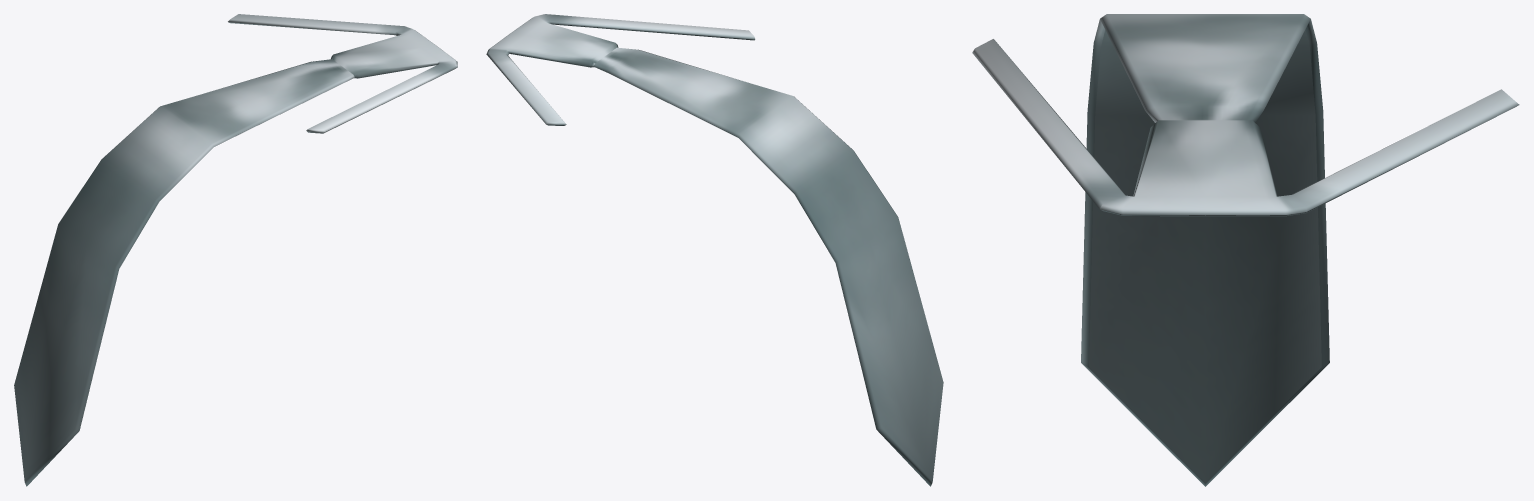
The model's file is TuShuGuan_01_lingdai_01.FBX.
The picture shows the model from 3 angles, left to right: view 1: azimuth 30°, elevation 25°; view 2: azimuth 150°, elevation 25°; view 3: azimuth 270°, elevation 25°; orthographic projection. The views are drawn at different scales.
Visible parts, largest first — view 1: TuShuGuan_01_lingdai_01; view 2: TuShuGuan_01_lingdai_01; view 3: TuShuGuan_01_lingdai_01.
Boxes of the visible parts, x1,y1,x2,y2 form: TuShuGuan_01_lingdai_01: (14,14,457,486); TuShuGuan_01_lingdai_01: (486,14,943,486); TuShuGuan_01_lingdai_01: (972,14,1519,486).
Size of the model in its own units: 224 by 180 by 134.
